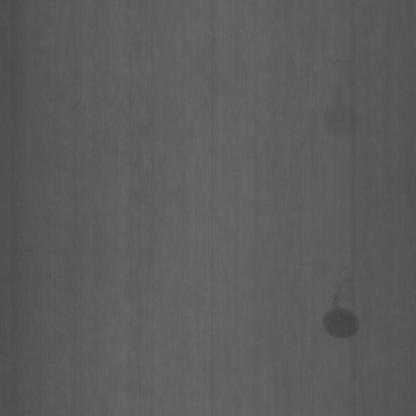oil_spot: (316, 287, 370, 352)
